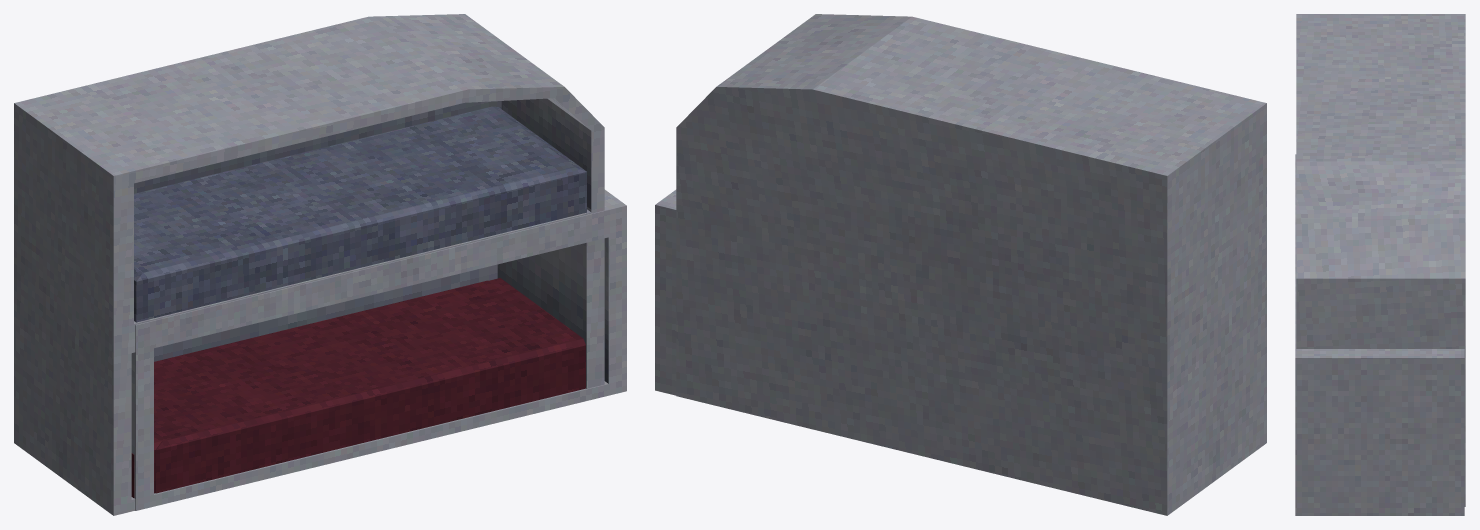
File: beds.gltf
The picture shows the model from 3 angles, left to right: view 1: azimuth 30°, elevation 25°; view 2: azimuth 150°, elevation 25°; view 3: azimuth 270°, elevation 25°; orthographic projection. The views are drawn at different scales.
Parts seen in each view (by area): view 1: Cube, Cube.002; view 2: Cube, Cube.002; view 3: Cube, Cube.002.
Boxes of the visible parts, x1=… form: Cube: x1=14, y1=14, x2=604, y2=515; Cube.002: x1=131, y1=189, x2=626, y2=510; Cube: x1=676, y1=14, x2=1266, y2=515; Cube.002: x1=655, y1=189, x2=676, y2=395; Cube: x1=1296, y1=14, x2=1465, y2=506; Cube.002: x1=1295, y1=154, x2=1464, y2=515.
Size of the model in its own units: 5.02 by 3.18 by 1.7.
Materials: 1 (1 with a texture image).
